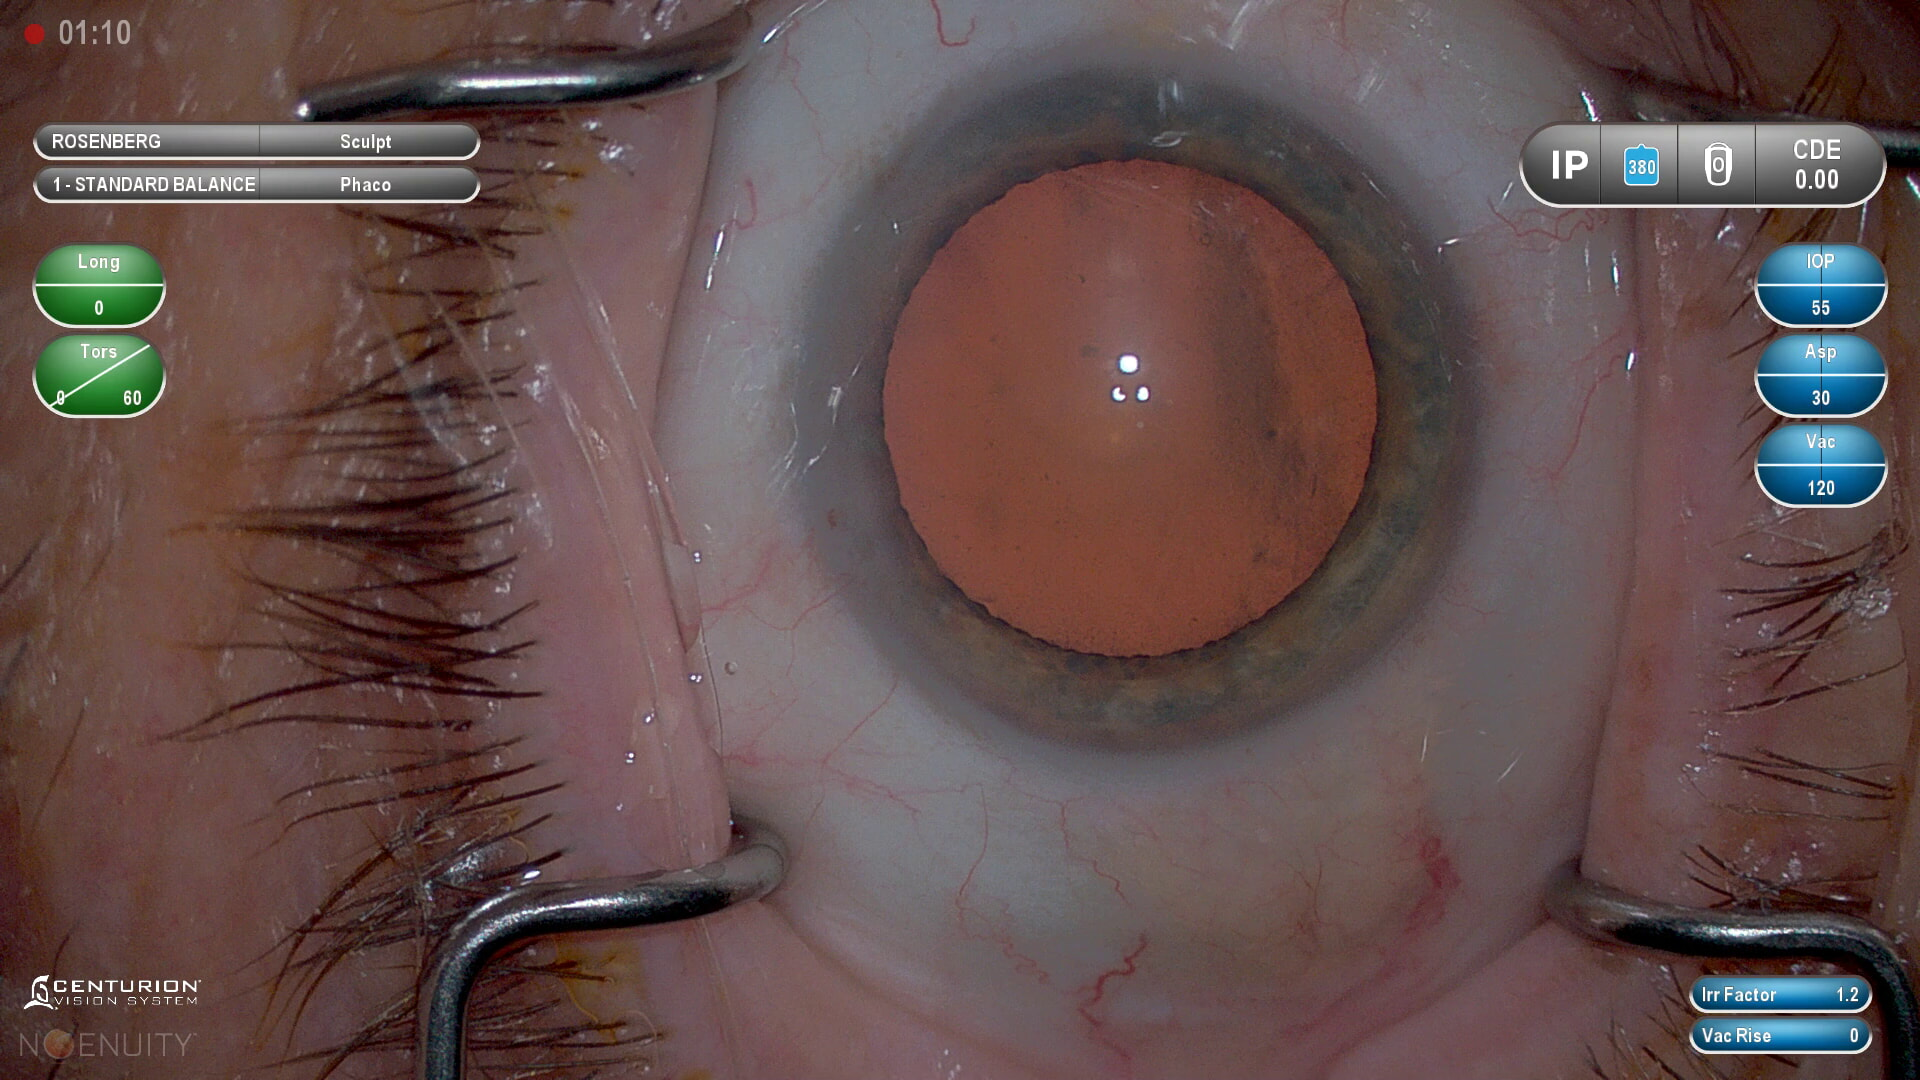iris: (801, 77, 1464, 748)
pupil: (879, 158, 1384, 658)
